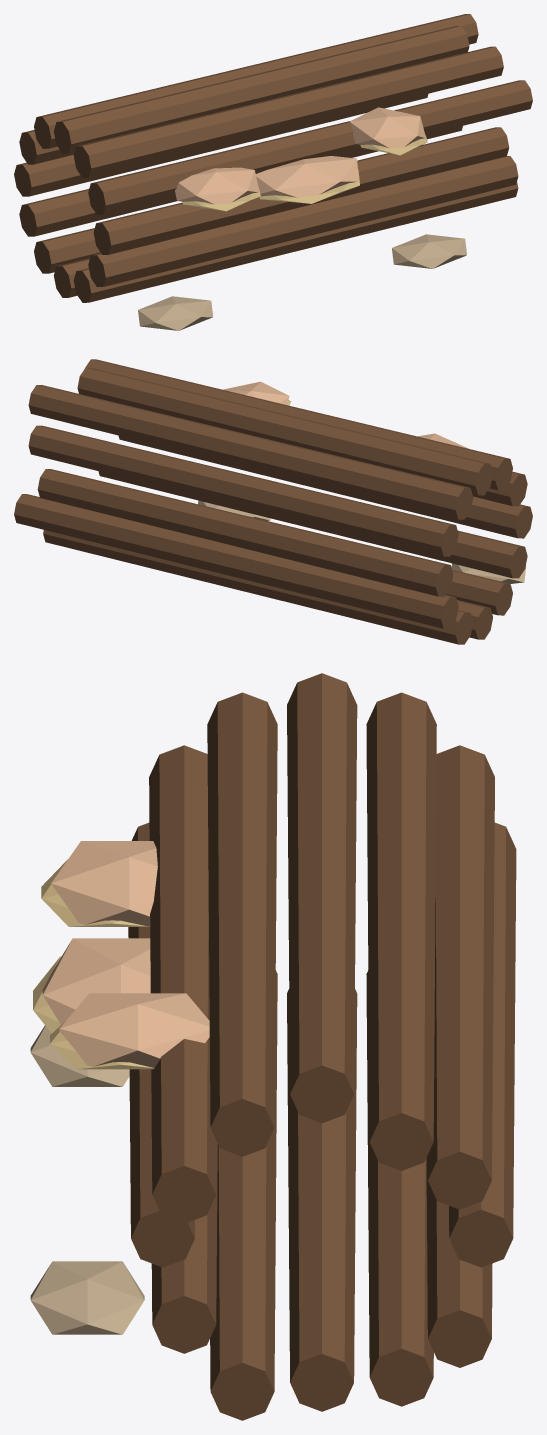
3 views of the same model, one above another, from view 1: azimuth 30°, elevation 25°; view 2: azimuth 150°, elevation 25°; view 3: azimuth 270°, elevation 25° (orthographic). The views are drawn at different scales.
Visible parts, largest first — view 1: WW-018 Hollow deadwood fungus habitat batched; view 2: WW-018 Hollow deadwood fungus habitat batched; view 3: WW-018 Hollow deadwood fungus habitat batched.
Part boxes in pixels (x1,y1,x2,y2): WW-018 Hollow deadwood fungus habitat batched: [14, 14, 532, 330]; WW-018 Hollow deadwood fungus habitat batched: [14, 359, 532, 644]; WW-018 Hollow deadwood fungus habitat batched: [30, 673, 516, 1420].
Bounding box in the file's own units: 1.18 × 0.464 × 0.5801.
